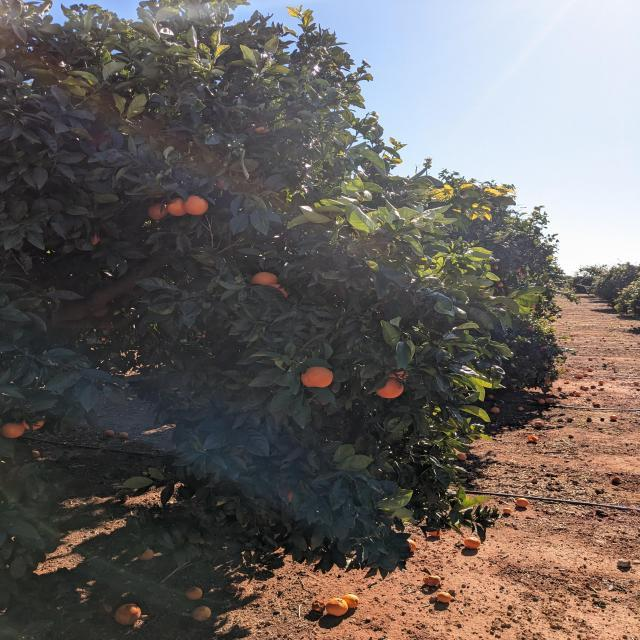Jeruk Sudah Matang: (300, 366, 333, 389), (378, 378, 403, 398), (185, 196, 208, 216), (2, 422, 26, 439), (250, 272, 278, 286), (168, 198, 188, 216), (148, 203, 168, 220), (25, 418, 45, 430), (270, 283, 288, 296)
